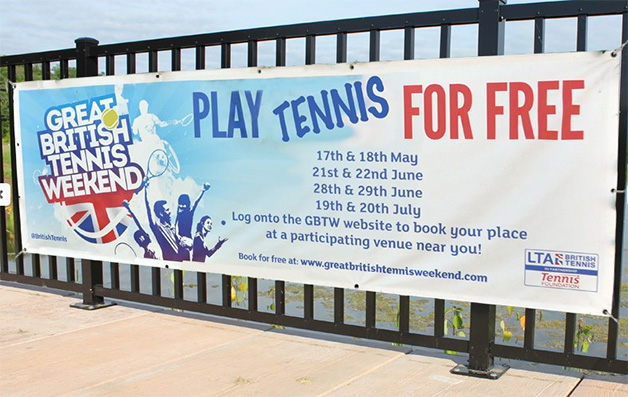vinyl banner: (4, 49, 627, 323)
